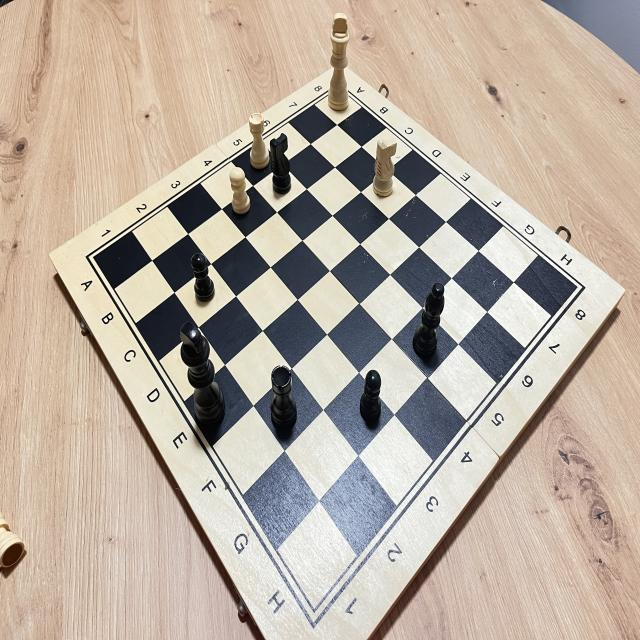black-bishop: (405, 274, 450, 375)
black-king: (174, 311, 227, 432)
black-knight: (266, 127, 294, 196)
black-pawn: (184, 248, 221, 309), (353, 366, 388, 428)
black-rook: (266, 360, 305, 440)
white-king: (320, 8, 356, 112)
white-knight: (367, 130, 408, 208)
white-pawn: (225, 164, 254, 217)
white-rook: (243, 106, 279, 184)
